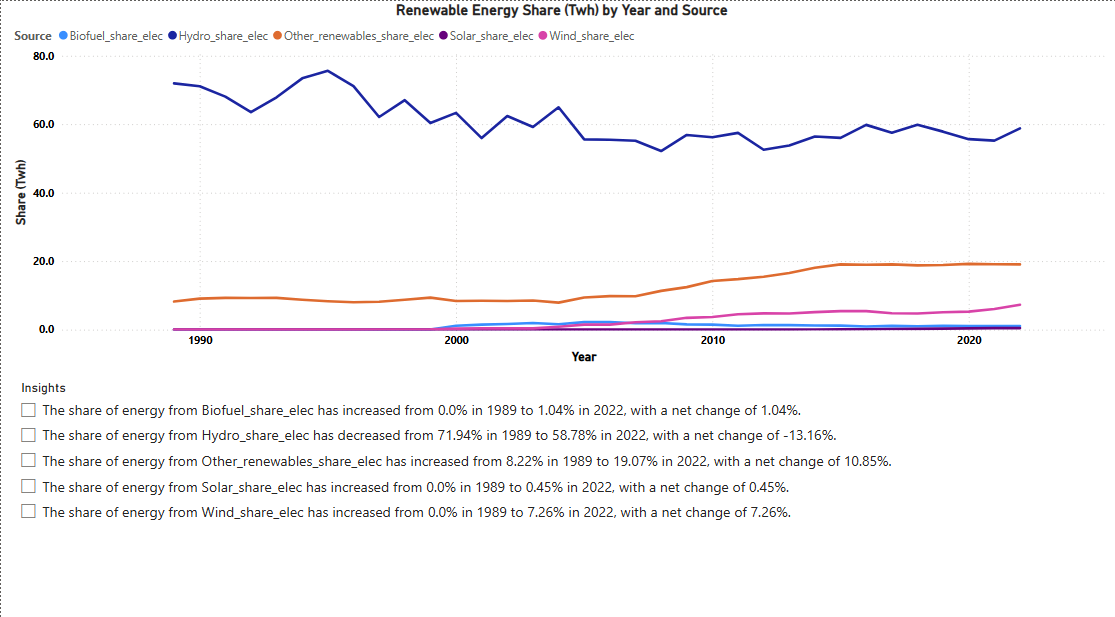

The page's visual inventory and layout, read from the dashboard file:
{"tool":"powerbi","page":{"name":"Renewable Energy Share","canvas":[1280,720],"ordinal":3},"visuals":[{"type":"lineChart","title":"Renewable Energy Share (Twh) by Year and Source","fields":{"Series":["renewable_energy_growth_tracking_plot_V1?country=New%20Zealand.Source"],"Category":["renewable_energy_growth_tracking_plot_V1?country=New%20Zealand.Year"],"Y":["Sum(renewable_energy_growth_tracking_plot_V1?country=New%20Zealand.Values)"]},"box":[9.8,0,1262,419.4],"z":0},{"type":"slicer","fields":{"Values":["Renewable Energy Insights.Insights"]},"box":[10,429,1262,291],"z":1000}]}

Visuals, with their boxes in screenshot pixels (x1, y1, x2, y2), scaled from the page's 1280x720 canvas onto the 1115x617 screenshot:
"Renewable Energy Share (Twh) by Year and Source" lineChart: x1=9, y1=0, x2=1108, y2=359
slicer - Renewable Energy Insights.Insights: x1=9, y1=368, x2=1108, y2=616
